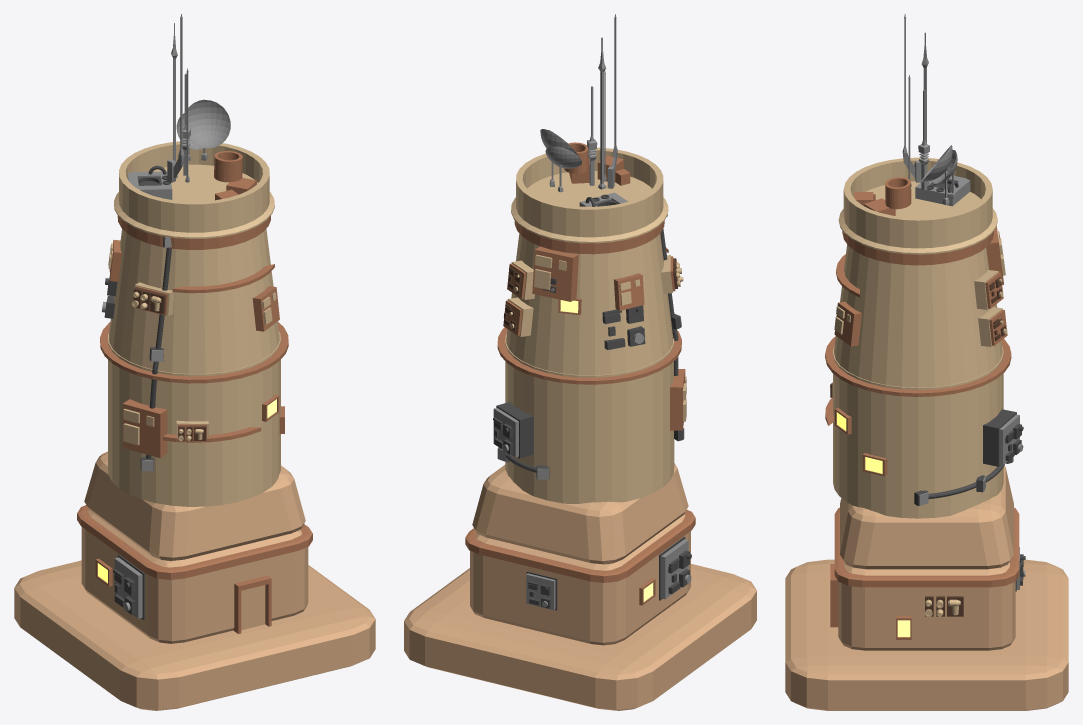
The model's file is nomad_building_40.fbx.
3 views of the same model, side by side, from view 1: azimuth 30°, elevation 25°; view 2: azimuth 150°, elevation 25°; view 3: azimuth 270°, elevation 25° (orthographic). The views are drawn at different scales.
Visible parts, largest first — view 1: B40_M_Foundation_square, B40_T_Drum0, B40_T_Drum1, B40_M_Blk00_base, B40_M_R00_square_roof_defualt, B40_T_Crown_RoofDeck_Ringwall, B40_M_B00_Band_square_diameter_default, B40_T_Ring00_TowerTrim_BandThin, B40_T_Dish1_AntennaDish_Reflector, B40_T_Panel5_PanelBox_Body, B40_T_Ring10_TowerTrim_BandTall, B40_M_Door_Door_Leaf (+9 smaller); view 2: B40_M_Foundation_square, B40_T_Drum0, B40_T_Drum1, B40_M_Blk00_base, B40_M_R00_square_roof_defualt, B40_T_Crown_RoofDeck_Ringwall, B40_M_B00_Band_square_diameter_default, B40_T_Ring00_TowerTrim_BandThin, B40_T_Ring10_TowerTrim_BandTall, B40_T_Gear1_PanelBox_Body, B40_T_Panel6_MeterBox_Backplate001, B40_M_Panel2_MeterBox_Face001 (+7 smaller); view 3: B40_M_Foundation_square, B40_T_Drum0, B40_T_Drum1, B40_M_Blk00_base, B40_M_R00_square_roof_defualt, B40_T_Crown_RoofDeck_Ringwall, B40_M_B00_Band_square_diameter_default, B40_T_Ring00_TowerTrim_BandThin, B40_T_Ring10_TowerTrim_BandTall, B40_T_Panel6_MeterBox_Backplate001, B40_T_Crown_RoofVent_Housing, B40_T_Stack0_TowerBody_StackWide (+9 smaller).
Boxes of the visible parts, x1,y1,x2,y2 form: B40_M_Foundation_square: [14, 560, 375, 710]; B40_T_Drum0: [108, 331, 280, 506]; B40_T_Drum1: [109, 229, 279, 373]; B40_M_Blk00_base: [81, 509, 308, 643]; B40_M_R00_square_roof_defualt: [84, 451, 305, 560]; B40_T_Crown_RoofDeck_Ringwall: [114, 141, 274, 238]; B40_M_B00_Band_square_diameter_default: [77, 505, 312, 579]; B40_T_Ring00_TowerTrim_BandThin: [100, 322, 288, 383]; B40_T_Dish1_AntennaDish_Reflector: [182, 99, 230, 148]; B40_T_Panel5_PanelBox_Body: [122, 399, 167, 457]; B40_T_Ring10_TowerTrim_BandTall: [117, 216, 270, 249]; B40_M_Door_Door_Leaf: [241, 585, 265, 630]; B40_M_Foundation_square: [404, 564, 756, 710]; B40_T_Drum0: [505, 334, 674, 503]; B40_T_Drum1: [506, 233, 673, 375]; B40_M_Blk00_base: [470, 514, 690, 645]; B40_M_R00_square_roof_defualt: [472, 463, 688, 564]; B40_T_Crown_RoofDeck_Ringwall: [511, 147, 668, 243]; B40_M_B00_Band_square_diameter_default: [465, 509, 695, 582]; B40_T_Ring00_TowerTrim_BandThin: [497, 327, 681, 384]; B40_T_Ring10_TowerTrim_BandTall: [514, 220, 664, 254]; B40_T_Gear1_PanelBox_Body: [532, 246, 578, 301]; B40_T_Panel6_MeterBox_Backplate001: [496, 402, 533, 458]; B40_M_Panel2_MeterBox_Face001: [661, 539, 688, 599]; B40_M_Foundation_square: [785, 559, 1068, 710]; B40_T_Drum0: [833, 345, 1003, 518]; B40_T_Drum1: [834, 244, 1002, 387]; B40_M_Blk00_base: [838, 562, 1015, 650]; B40_M_R00_square_roof_defualt: [840, 466, 1013, 569]; B40_T_Crown_RoofDeck_Ringwall: [838, 157, 997, 254]; B40_M_B00_Band_square_diameter_default: [834, 507, 1019, 587]; B40_T_Ring00_TowerTrim_BandThin: [825, 336, 1011, 396]; B40_T_Ring10_TowerTrim_BandTall: [842, 231, 993, 265]; B40_T_Panel6_MeterBox_Backplate001: [983, 409, 1016, 466]; B40_T_Crown_RoofVent_Housing: [915, 175, 970, 206]; B40_T_Stack0_TowerBody_StackWide: [885, 177, 911, 209].
Bounding box in the file's own units: 254 × 625 × 254.
